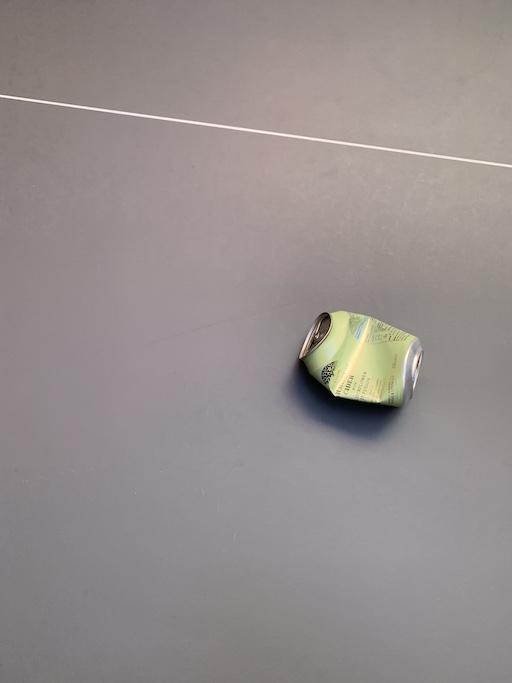Aluminum can: (283, 295, 437, 419)
